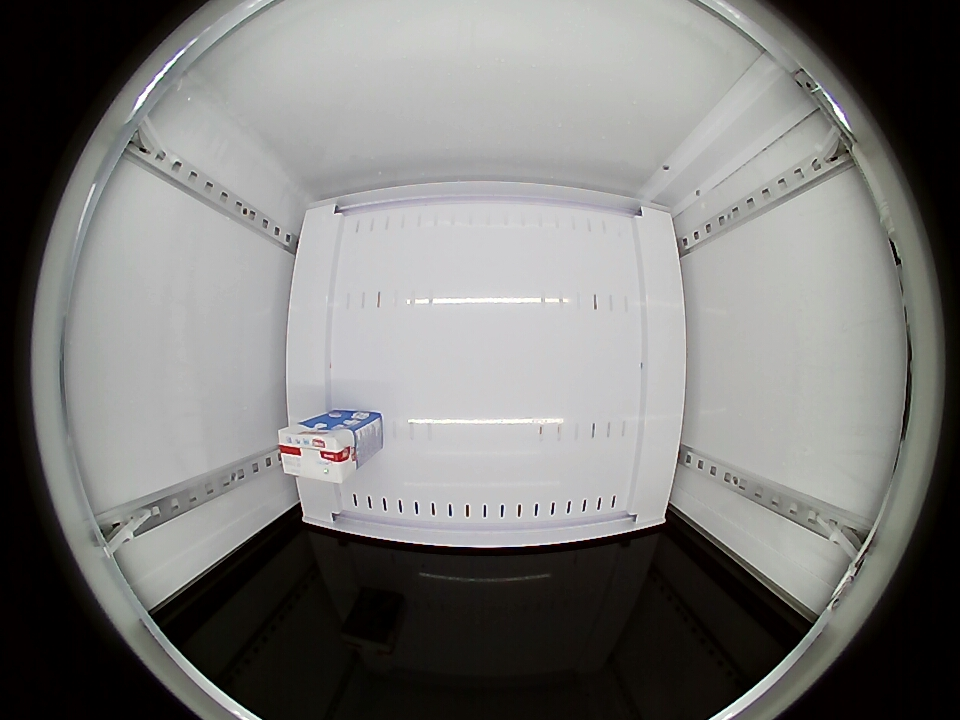niunai: (277, 423, 359, 483)
